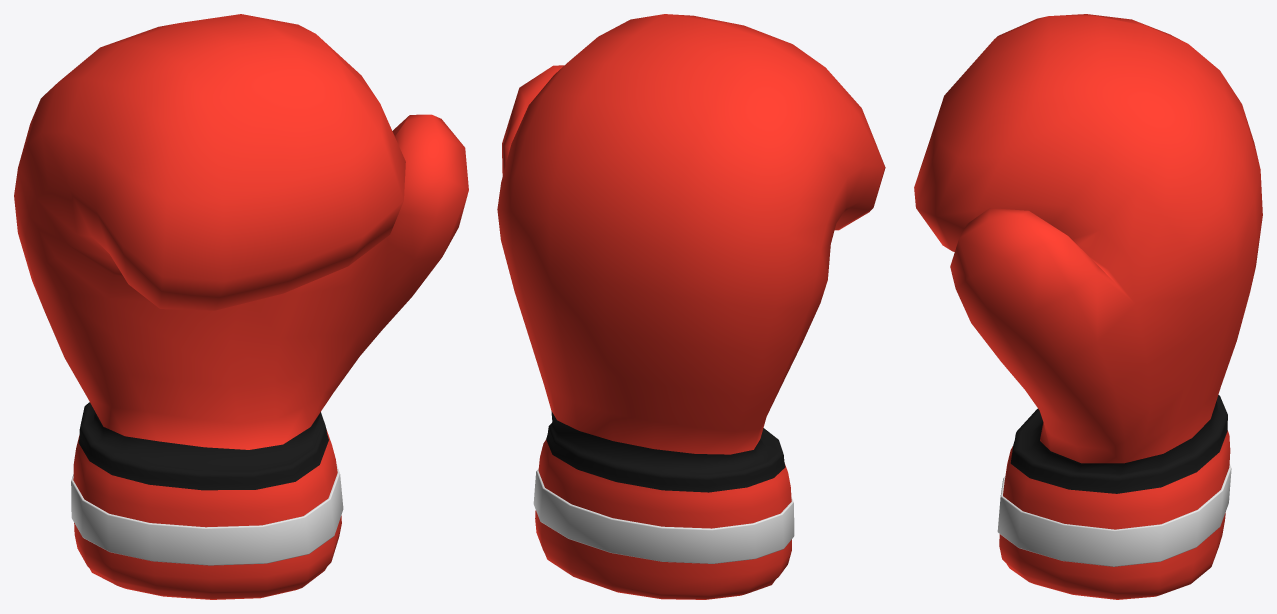
The model's file is Boxing_Glove_R.fbx.
3 renders of one model, left to right at view 1: azimuth 30°, elevation 25°; view 2: azimuth 150°, elevation 25°; view 3: azimuth 270°, elevation 25°, orthographic. The views are drawn at different scales.
Visible parts, largest first — view 1: Boxing Glove_R; view 2: Boxing Glove_R; view 3: Boxing Glove_R.
Boxes of the visible parts, x1,y1,x2,y2 form: Boxing Glove_R: (14, 14, 468, 599); Boxing Glove_R: (497, 14, 885, 599); Boxing Glove_R: (914, 14, 1262, 599).
Size of the model in its own units: 733 by 1021 by 625.
